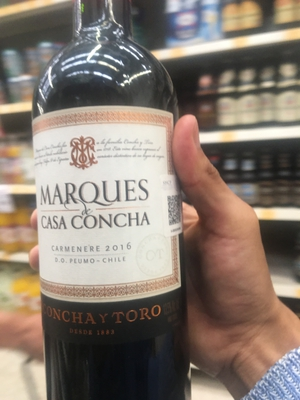marques de casa concha carmenere: (30, 18, 196, 393)
